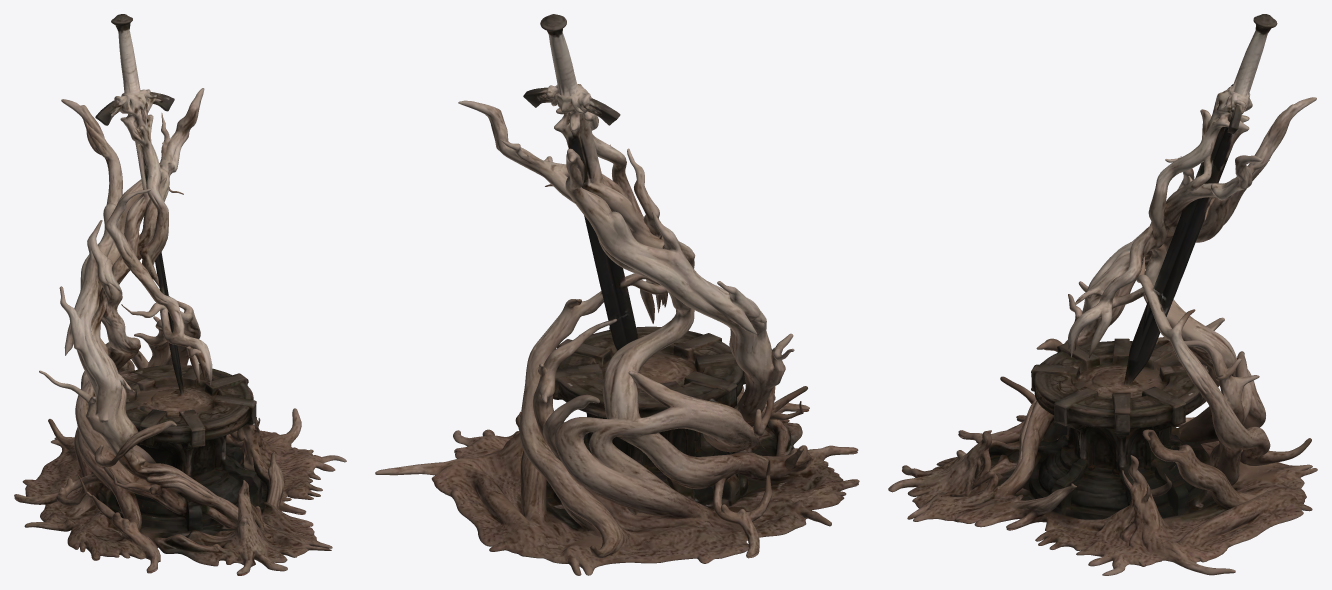
Rendered from altar_ehy.glb.
3 views of the same model, side by side, from view 1: azimuth 30°, elevation 25°; view 2: azimuth 150°, elevation 25°; view 3: azimuth 270°, elevation 25° (orthographic). The views are drawn at different scales.
Parts seen in each view (by area): view 1: material; view 2: material; view 3: material.
Part boxes in pixels (x1,y1,x2,y2): material: (14, 14, 346, 575); material: (375, 14, 859, 575); material: (888, 14, 1317, 575).
Size of the model in its own units: 0.7029 by 0.8971 by 0.7299.
Materials: 1 (1 with a texture image).
